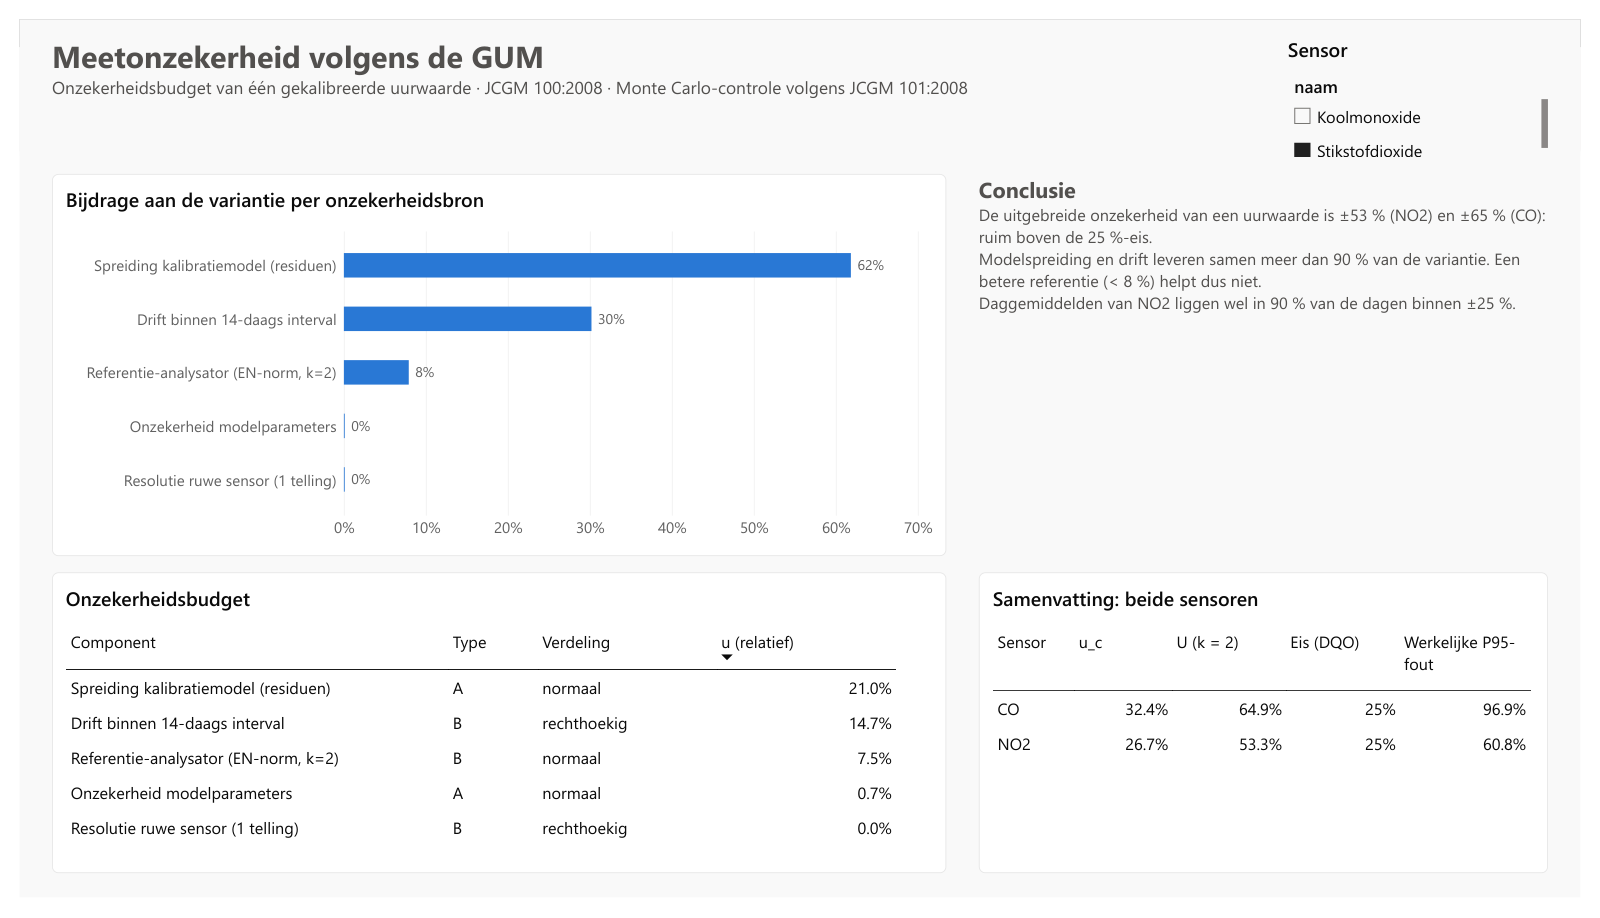

Layout of this report page (visuals, bound fields, positions):
{"tool":"powerbi","page":{"name":"Meetonzekerheid","canvas":[1920,1080],"ordinal":2},"visuals":[{"type":"textbox","box":[40,20,1480,130],"z":0},{"type":"slicer","title":"Sensor","fields":{"Values":["sensoren.naam"]},"box":[1560,20,320,150],"z":1000},{"type":"clusteredBarChart","title":"Bijdrage aan de variantie per onzekerheidsbron","fields":{"Category":["onzekerheidsbudget.component"],"Y":["Sum(onzekerheidsbudget.aandeel)"]},"box":[40,190,1100,470],"z":2000},{"type":"textbox","box":[1180,190,700,470],"z":3000},{"type":"tableEx","title":"Onzekerheidsbudget","fields":{"Values":["onzekerheidsbudget.component","onzekerheidsbudget.type","onzekerheidsbudget.verdeling","onzekerheidsbudget.u_rel"]},"box":[40,680,1100,370],"z":4000},{"type":"tableEx","title":"Samenvatting: beide sensoren","fields":{"Values":["onzekerheid_samenvatting.sensor","onzekerheid_samenvatting.u_c_rel","onzekerheid_samenvatting.U_rel","onzekerheid_samenvatting.dqo","onzekerheid_samenvatting.empirisch_abs_fout_p95"]},"box":[1180,680,700,370],"z":5000}]}

Visuals, with their boxes in screenshot pixels (x1, y1, x2, y2), scaled from the page's 1920x1080 canvas onto the 1600x918 screenshot:
textbox: box(33, 17, 1267, 128)
"Sensor" slicer: box(1300, 17, 1567, 144)
"Bijdrage aan de variantie per onzekerheidsbron" clusteredBarChart: box(33, 162, 950, 561)
textbox: box(983, 162, 1567, 561)
"Onzekerheidsbudget" tableEx: box(33, 578, 950, 892)
"Samenvatting: beide sensoren" tableEx: box(983, 578, 1567, 892)
